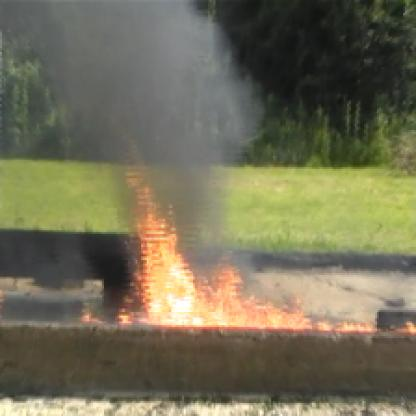Fire: (119, 143, 384, 336)
Smoke: (2, 2, 182, 137)
